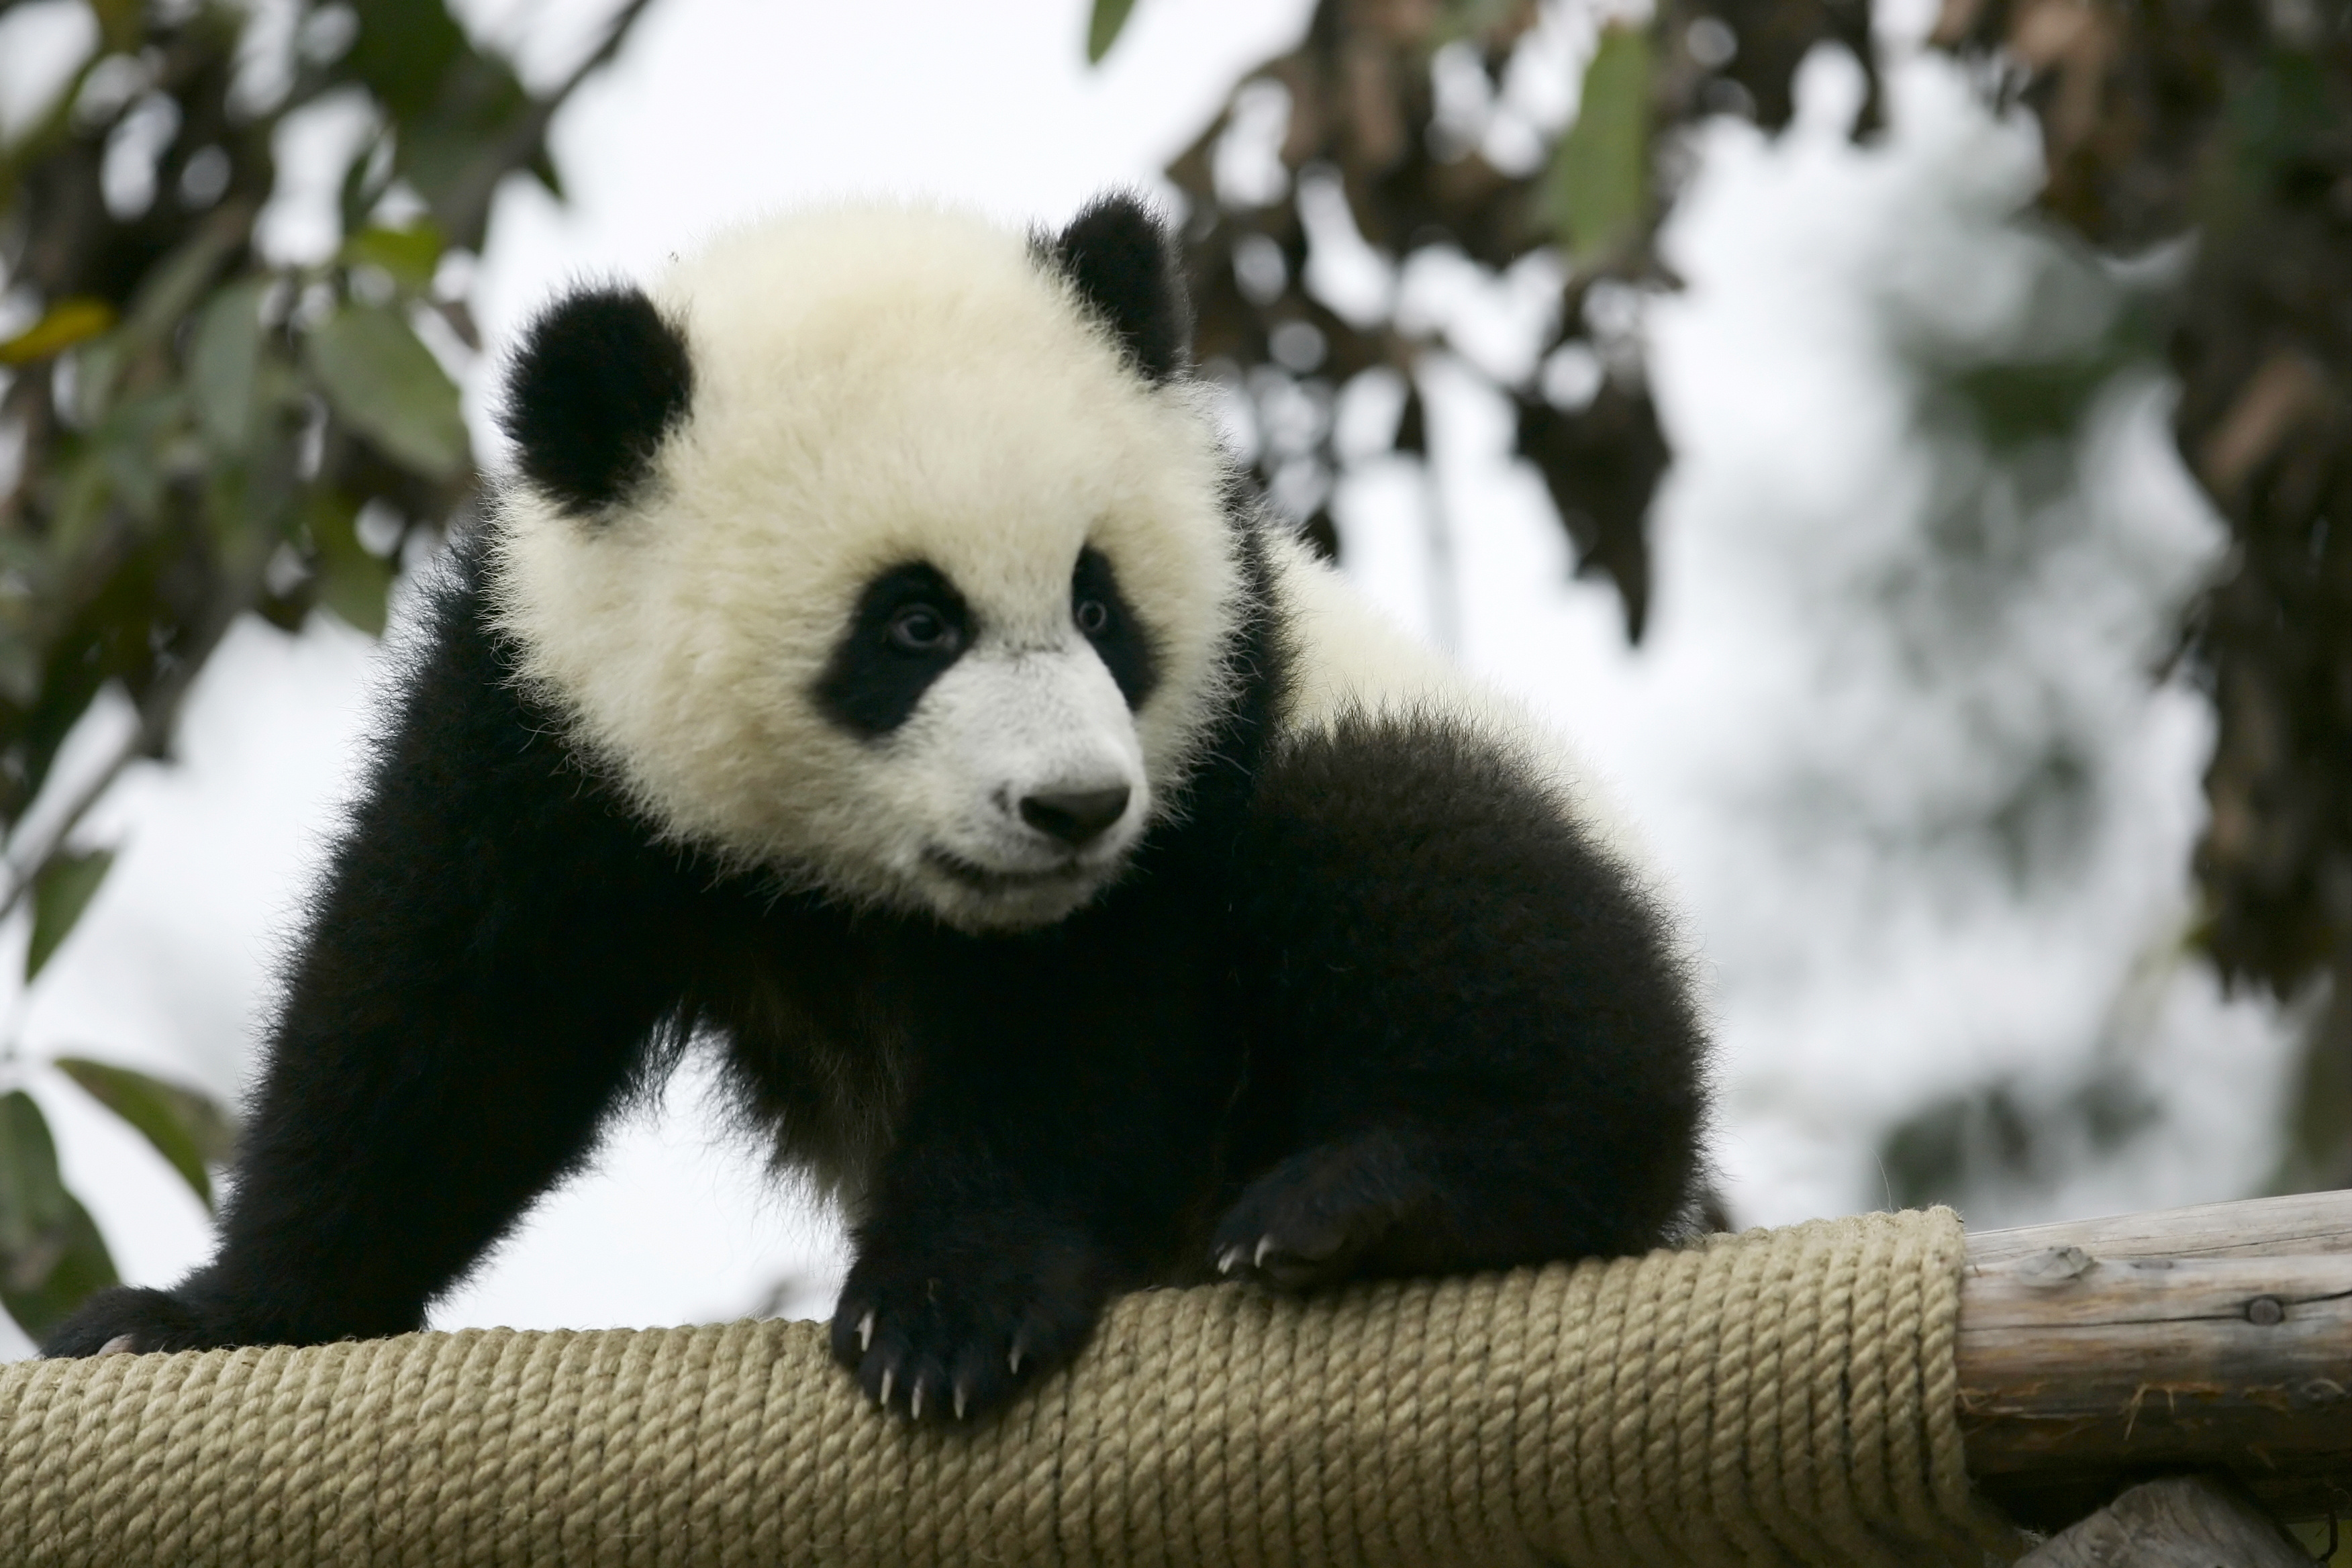panda: (161, 149, 1871, 1447)
